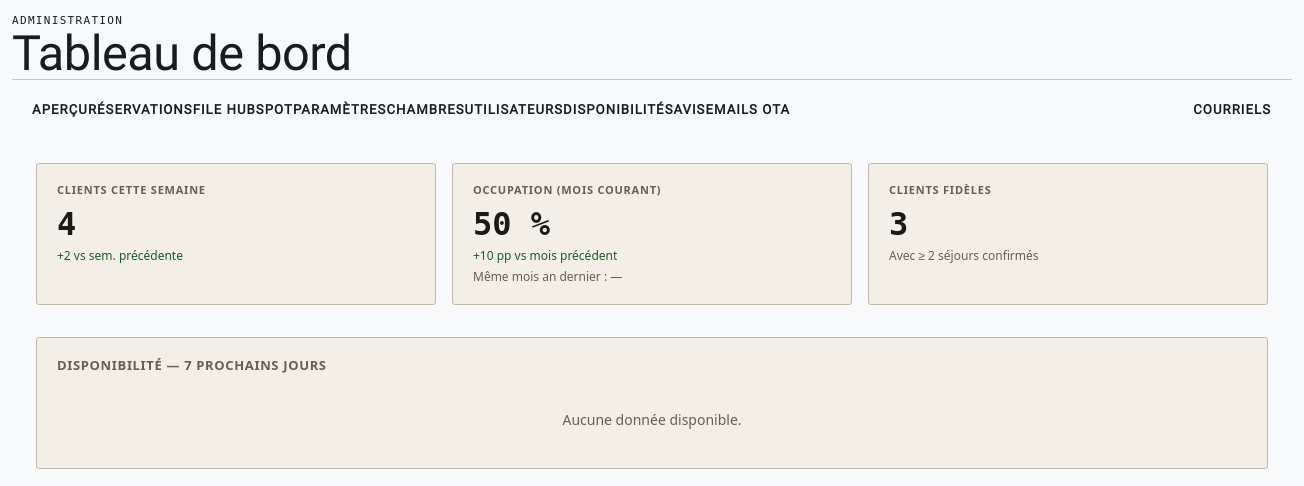
it: page-admin outbox tab › loads the outbox only after switching to its tab
The width and height of the screenshot is (1304, 486).
Click the tab with test id "tab-outbox": (243,110) [193,80,293,139]
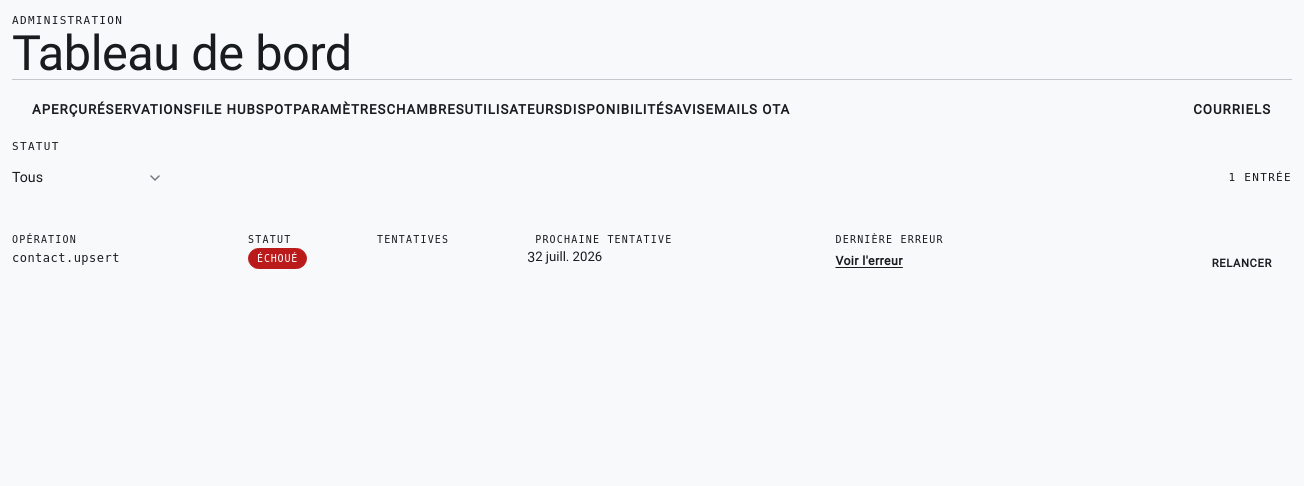
Result: the table with test id "outbox-table" is shown at [12,232,1292,279]
